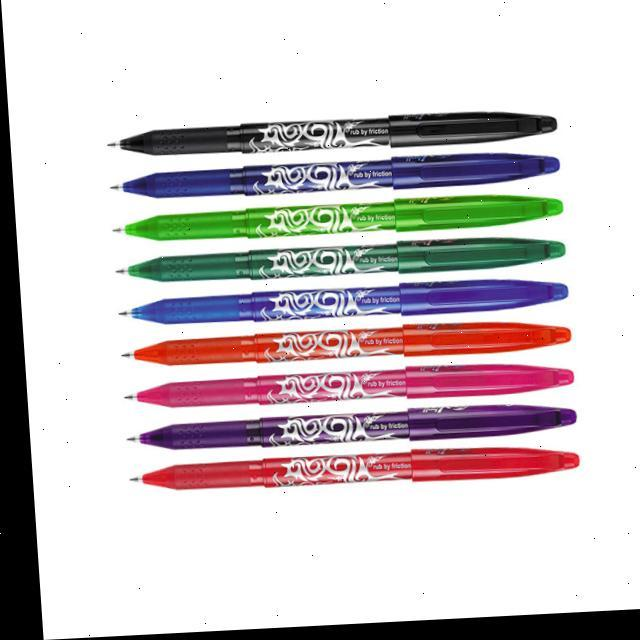pen: (100, 109, 578, 504)
